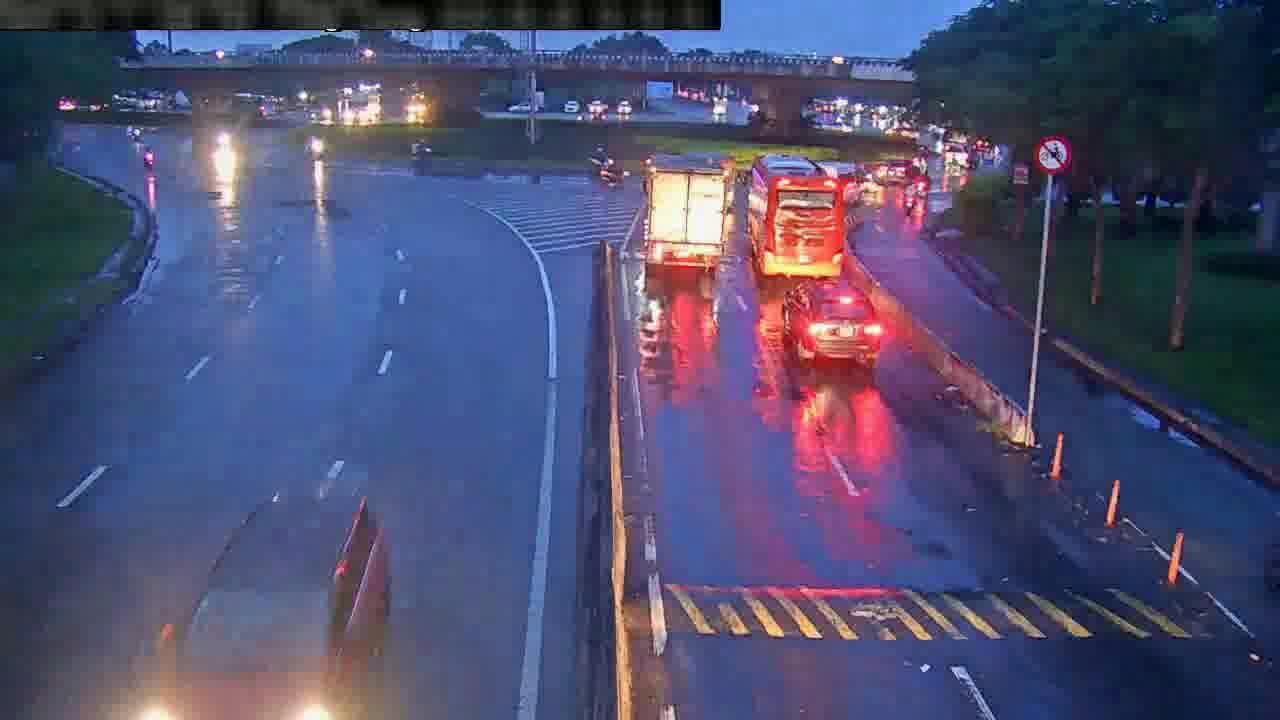14: (750, 152, 847, 288)
8: (636, 151, 724, 289)
container: (150, 493, 393, 720), (785, 282, 884, 374)
